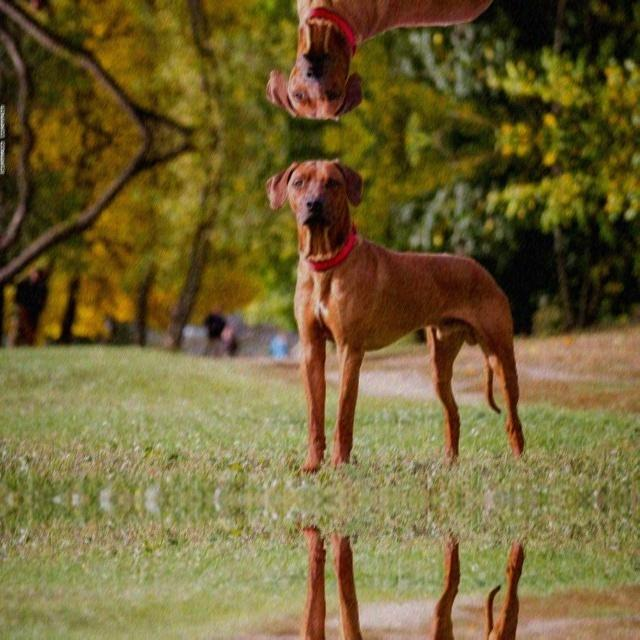dog: (256, 150, 372, 250), (256, 28, 372, 128)
